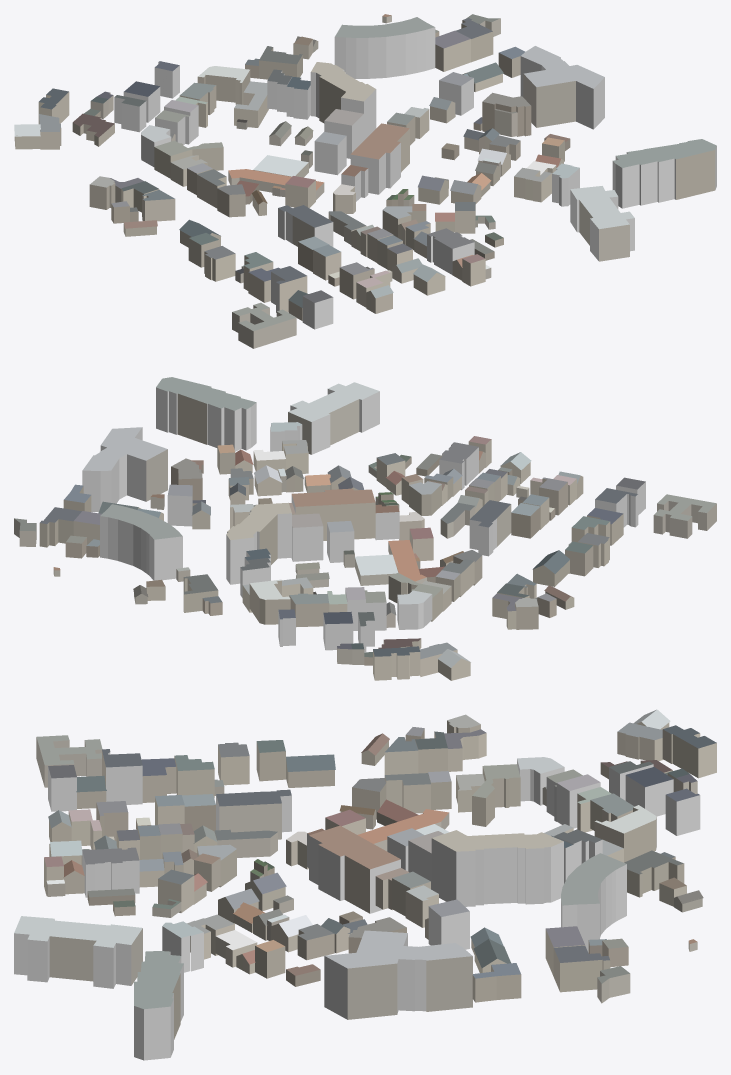
The picture shows the model from 3 angles, top to bottom: view 1: azimuth 30°, elevation 25°; view 2: azimuth 150°, elevation 25°; view 3: azimuth 270°, elevation 25°; orthographic projection. The views are drawn at different scales.
Visible parts, largest first — view 1: tuile; view 2: tuile; view 3: tuile.
Part boxes in pixels (x1,y1,x2,y2): tuile: (14, 14, 716, 348); tuile: (14, 377, 716, 680); tuile: (14, 709, 716, 1060).
Bounding box in the file's own units: 287 × 39.98 × 272.
